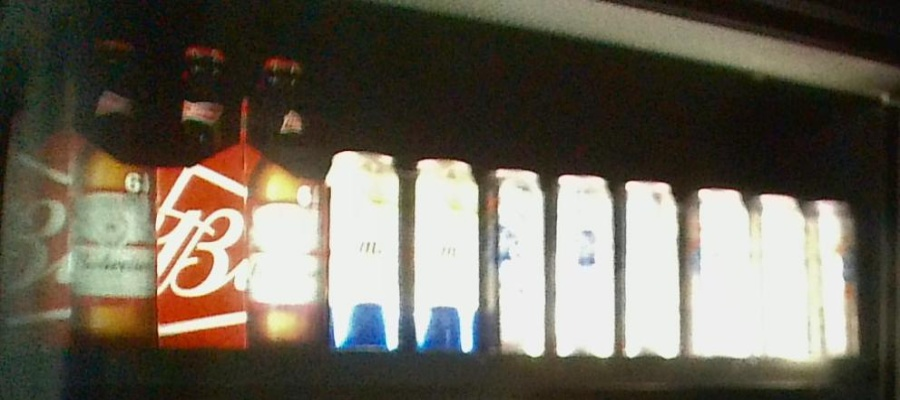bottle: (156, 43, 331, 349), (1, 28, 156, 352), (485, 164, 682, 355), (684, 185, 867, 364), (334, 145, 481, 352)
